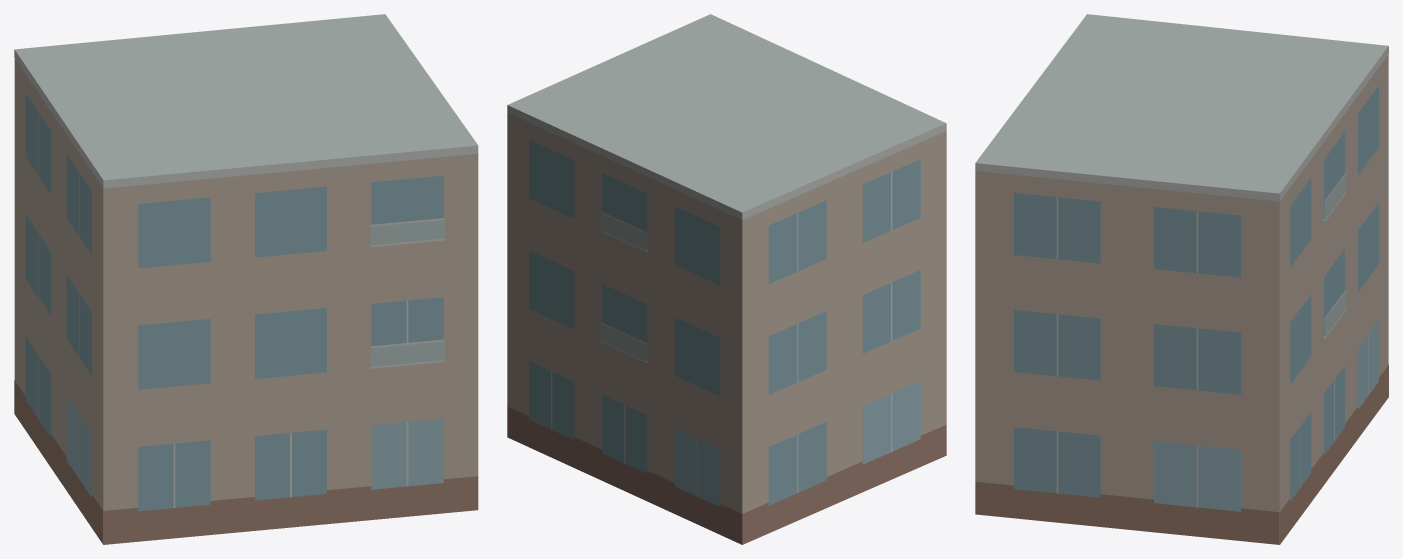
Rendered from survey-upis-33044634.glb.
3 views of the same model, side by side, from view 1: azimuth 30°, elevation 25°; view 2: azimuth 150°, elevation 25°; view 3: azimuth 270°, elevation 25° (orthographic). The views are drawn at different scales.
Visible parts, largest first — view 1: survey-upis-33044634.tmp; view 2: survey-upis-33044634.tmp; view 3: survey-upis-33044634.tmp.
Boxes of the visible parts, x1=… form: survey-upis-33044634.tmp: x1=14, y1=14, x2=478, y2=544; survey-upis-33044634.tmp: x1=507, y1=14, x2=946, y2=544; survey-upis-33044634.tmp: x1=975, y1=14, x2=1388, y2=544.
Size of the model in its own units: 11.91 by 10.85 by 11.59.
